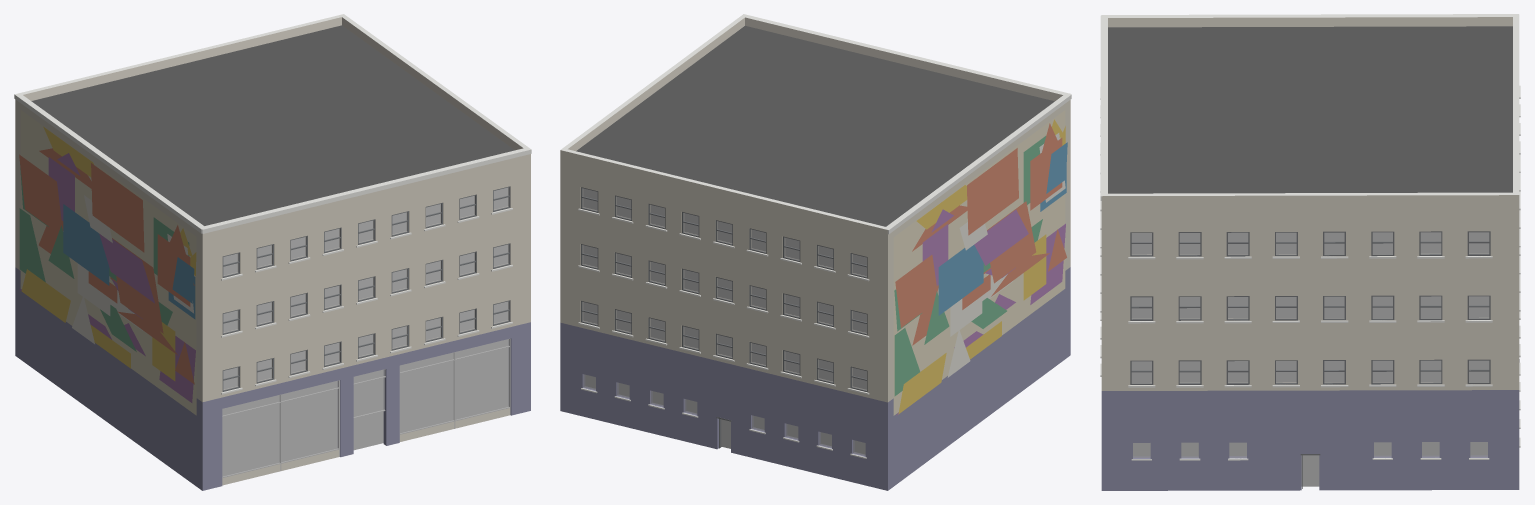
Rendered from exterior.glb.
3 views of the same model, side by side, from view 1: azimuth 30°, elevation 25°; view 2: azimuth 150°, elevation 25°; view 3: azimuth 270°, elevation 25° (orthographic). The views are drawn at different scales.
Visible parts, largest first — view 1: shell, roof, mural, glazing, shadow-proxy, frames, storefront, relief-2, trim, relief-1; view 2: shell, roof, mural, glazing, shadow-proxy, frames, trim, relief-1; view 3: shell, roof, glazing, shadow-proxy, frames, trim, relief-1.
Part boxes in pixels (left/top/right/bottom): shell: left=15, top=14, right=530, bottom=490; roof: left=31, top=25, right=514, bottom=225; mural: left=19, top=110, right=196, bottom=415; glazing: left=222, top=187, right=509, bottom=476; shadow-proxy: left=222, top=188, right=508, bottom=476; frames: left=222, top=186, right=510, bottom=391; storefront: left=222, top=338, right=510, bottom=485; relief-2: left=202, top=149, right=531, bottom=233; trim: left=221, top=208, right=512, bottom=394; relief-1: left=14, top=94, right=202, bottom=233; shell: left=560, top=14, right=1070, bottom=490; roof: left=576, top=25, right=1054, bottom=226; mural: left=893, top=110, right=1067, bottom=415; glazing: left=582, top=188, right=866, bottom=455; shadow-proxy: left=583, top=189, right=866, bottom=454; frames: left=581, top=187, right=867, bottom=392; trim: left=578, top=208, right=869, bottom=458; relief-1: left=887, top=94, right=1071, bottom=234; shell: left=1101, top=14, right=1519, bottom=490; roof: left=1108, top=26, right=1512, bottom=193; glazing: left=1131, top=232, right=1489, bottom=457; shadow-proxy: left=1132, top=232, right=1488, bottom=486; frames: left=1130, top=231, right=1490, bottom=384; trim: left=1100, top=85, right=1520, bottom=460; relief-1: left=1101, top=14, right=1518, bottom=15.
Size of the model in its own units: 24.57 by 18.41 by 23.8.
